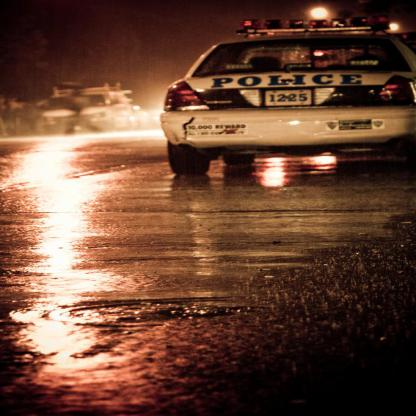Car: (0, 16, 416, 174)
